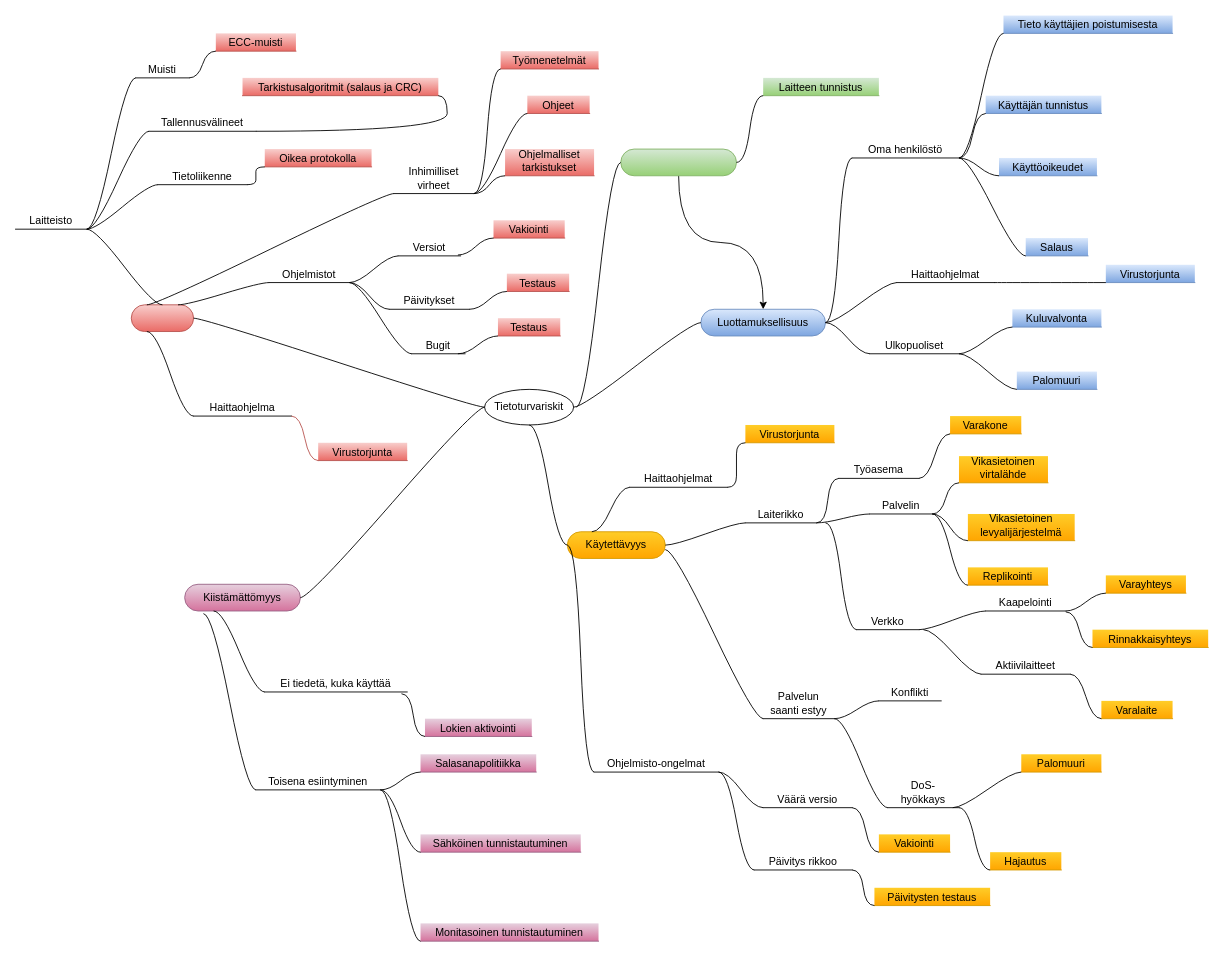
Image size: 1224x957. Some labels were removed from this diagram. Here are the shapes that lost their labels. From the top down, the centre of each, then its label:
At (x=678, y=162): "Pääsynvalvonta".
At (x=162, y=318): "Eheys".
